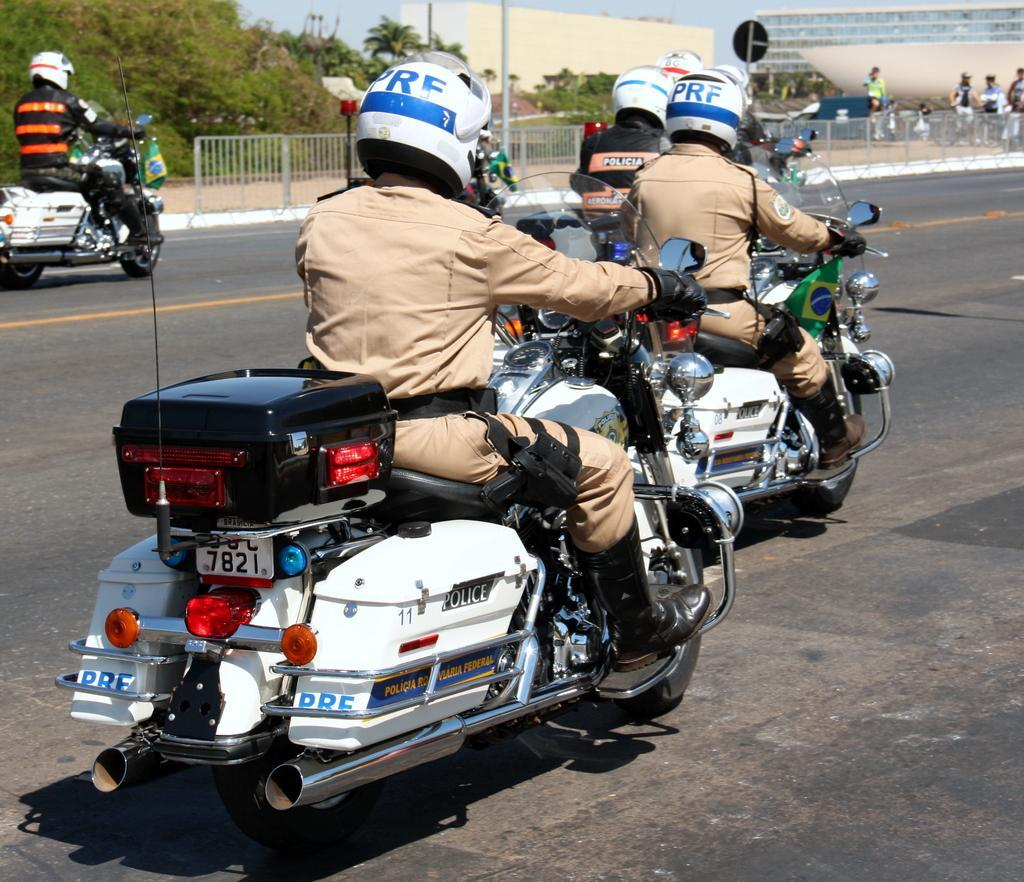helmet: (354, 49, 494, 200), (664, 68, 745, 155), (612, 64, 681, 136), (28, 49, 76, 91)
